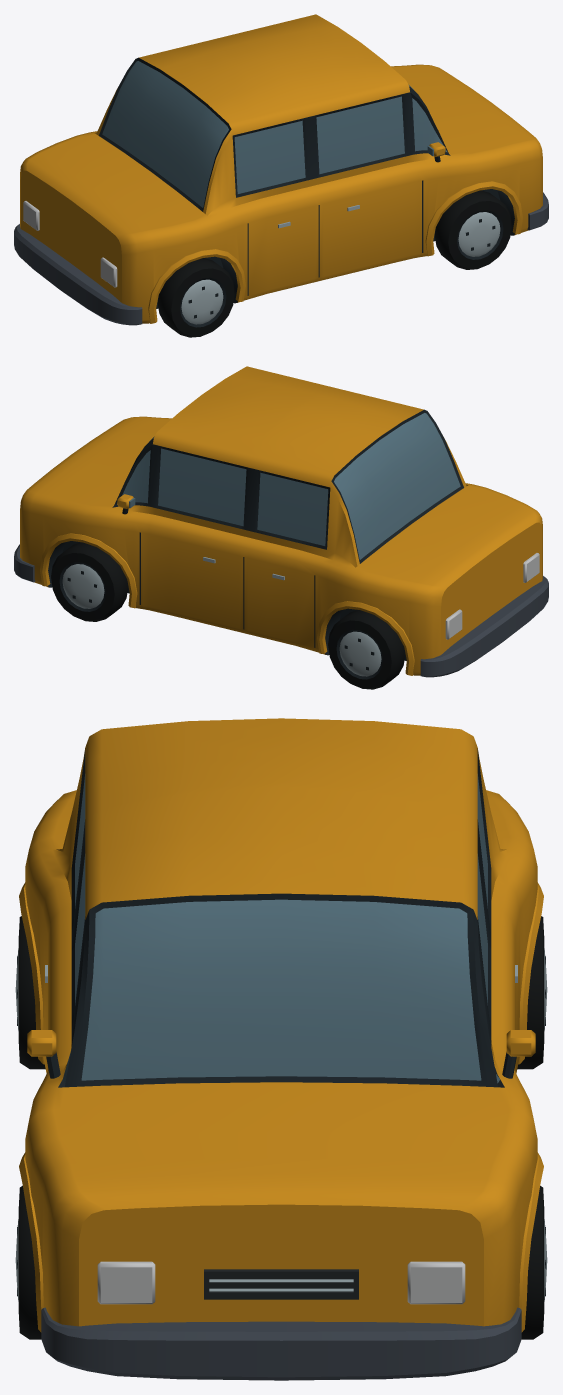
The model's file is cute-car-sedan-crafted.glb.
3 views of the same model, one above another, from view 1: azimuth 30°, elevation 25°; view 2: azimuth 150°, elevation 25°; view 3: azimuth 270°, elevation 25° (orthographic). The views are drawn at different scales.
Visible parts, largest first — view 1: tripo_node_47b0f068-58d6-4536-be42-ae4e54933379; view 2: tripo_node_47b0f068-58d6-4536-be42-ae4e54933379; view 3: tripo_node_47b0f068-58d6-4536-be42-ae4e54933379.
Part boxes in pixels (x1=…): tripo_node_47b0f068-58d6-4536-be42-ae4e54933379: x1=14, y1=14, x2=548, y2=337; tripo_node_47b0f068-58d6-4536-be42-ae4e54933379: x1=14, y1=366, x2=548, y2=689; tripo_node_47b0f068-58d6-4536-be42-ae4e54933379: x1=15, y1=718, x2=547, y2=1380.
Bounding box in the file's own units: 1 × 0.4325 × 0.5147.
1 material, 1 textured.
